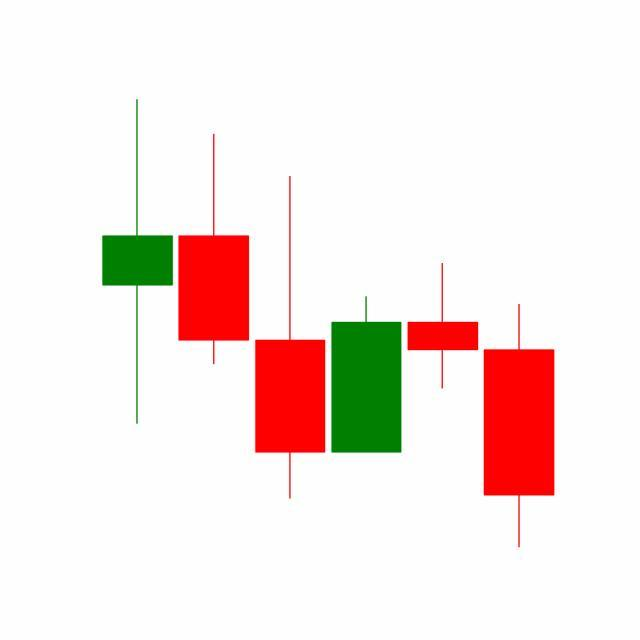Spinning Top: (404, 262, 482, 392)
